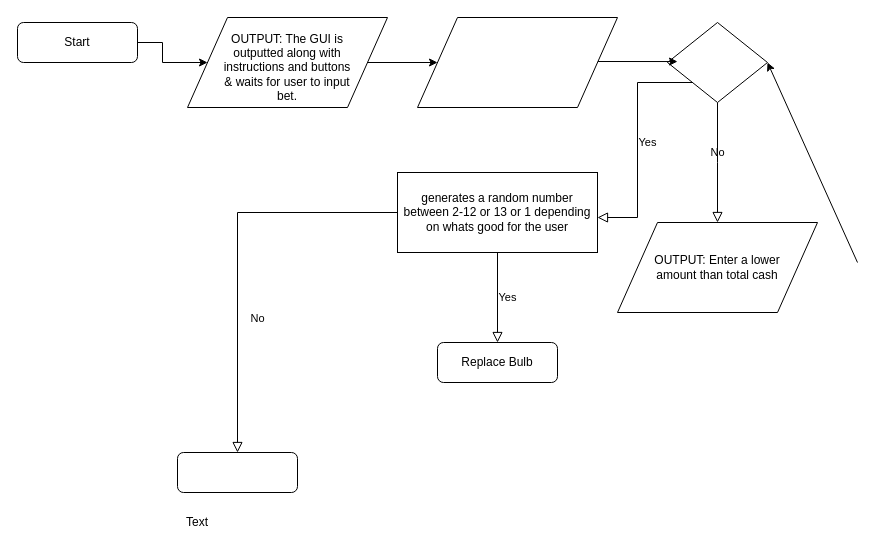
This 883x550 diagram has some shape labels left out. The shapes that lost their labels are listed below. From the top down, each one's centre as x and y in pixels, then its label:
At [517,62]: "INPUT: User enters bet".
At [717,62]: "bet less than total cash?".
At [237,472]: "Repair Lamp".
